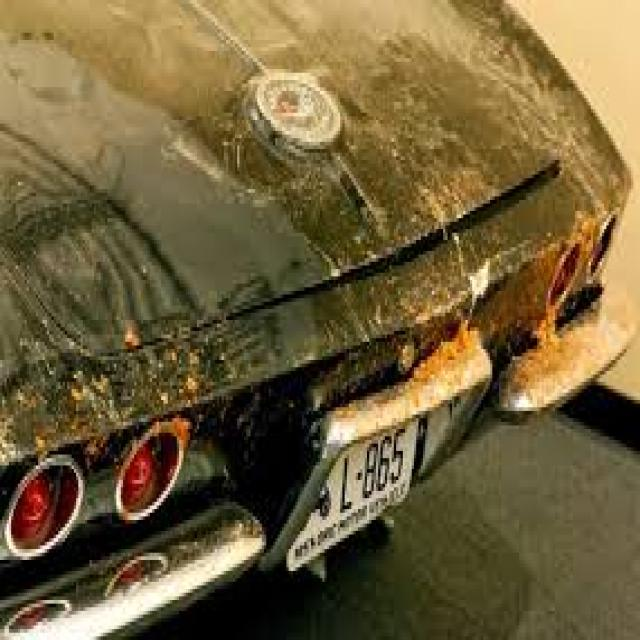minor: (289, 149, 582, 309)
